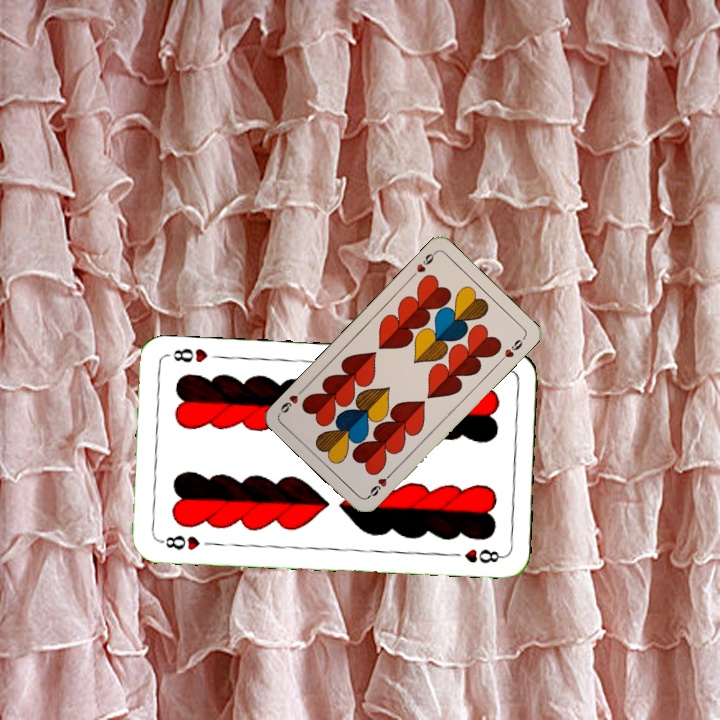H8: (156, 531, 203, 553)
H9: (407, 248, 439, 280), (364, 468, 395, 500)
